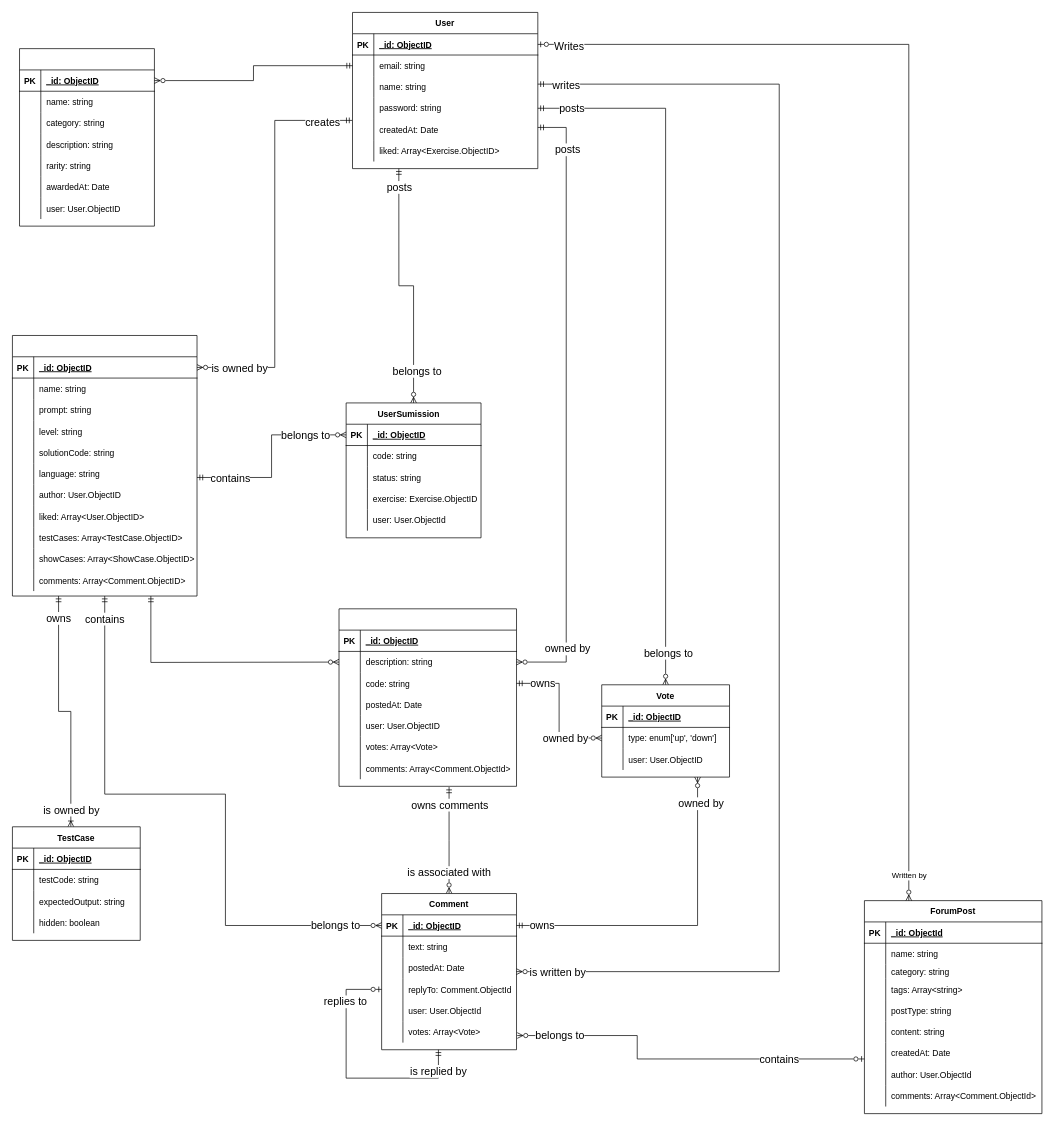
This 1054x1126 diagram has some shape labels left out. Each missing label, with the box of its shape:
Badge: (19, 48, 154, 226)
Exercise: (12, 335, 197, 596)
ShowCase: (338, 608, 517, 786)
